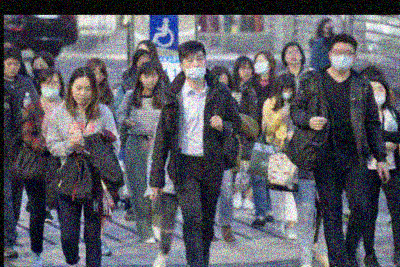mask_weared_incorrect: (184, 54, 206, 81), (39, 77, 62, 102), (369, 84, 388, 105)
with_mask: (330, 47, 355, 73), (252, 57, 271, 77), (30, 61, 50, 79), (281, 87, 294, 101)
without_mask: (71, 82, 93, 105), (4, 59, 22, 78), (284, 47, 303, 65), (236, 64, 253, 81), (140, 72, 158, 88), (90, 69, 105, 85)
